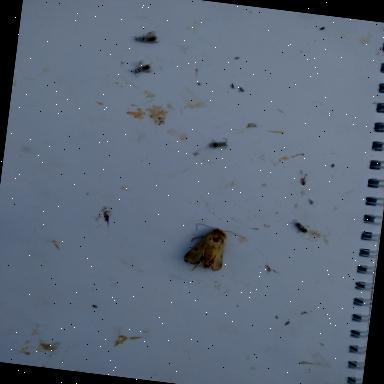abw: (182, 220, 248, 277)
